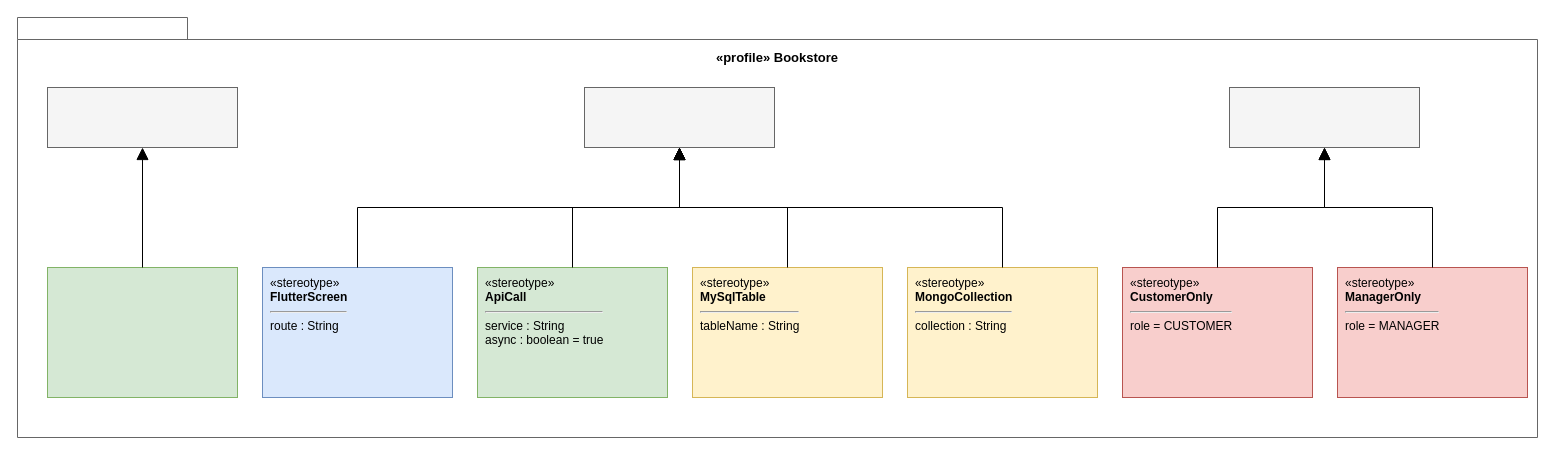
Some shapes in this 1555 by 455 pixel diagram are drawn without their labels. The centre of each missing label's shape, as x and y in pixels:
"«metaclass» Class" belongs at pixel 679 117.
"«metaclass» Component" belongs at pixel 142 117.
"«metaclass» Operation" belongs at pixel 1324 117.
"«stereotype» RestService port : int technology : String database : String" belongs at pixel 142 332.
